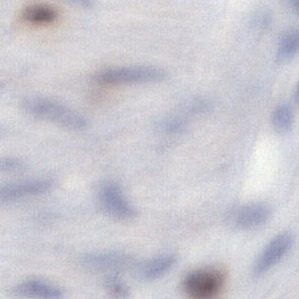Lymphocyte: (20, 3, 63, 27)
